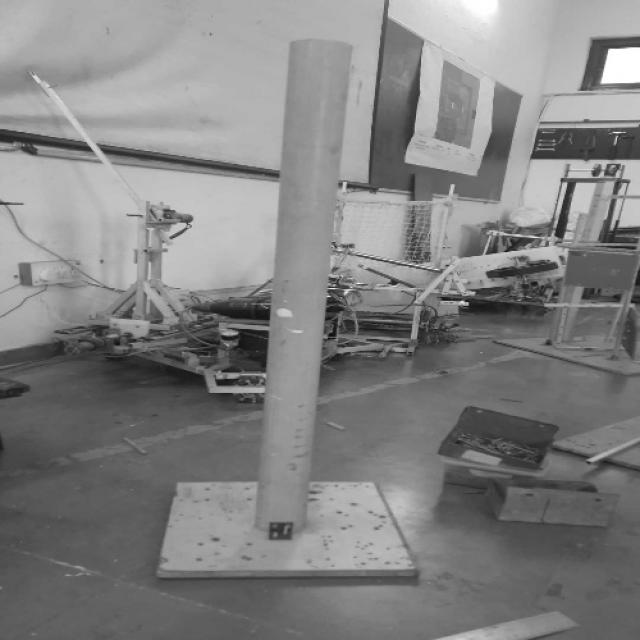poles: (146, 21, 437, 599)
